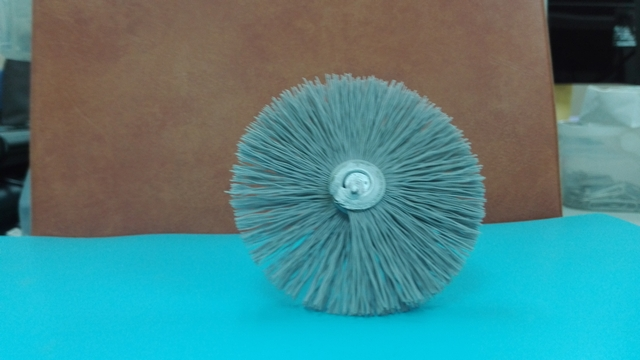TOOL: (154, 65, 492, 339), (179, 52, 502, 331), (224, 56, 516, 320)
